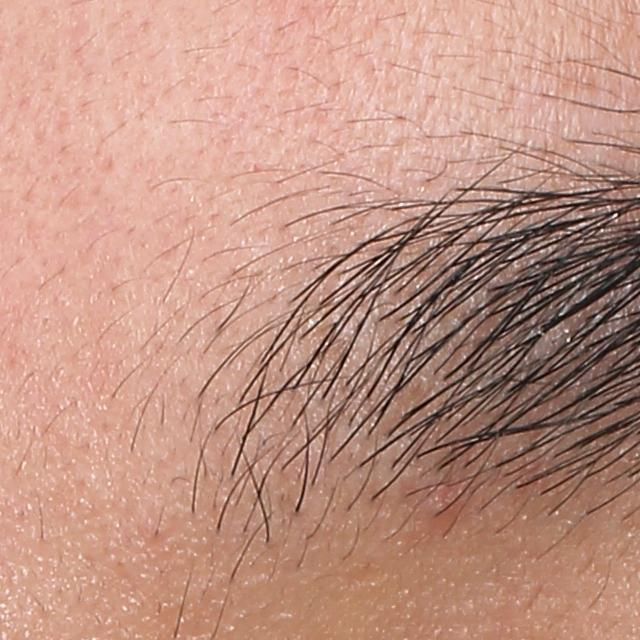papule: (422, 475, 470, 533)
